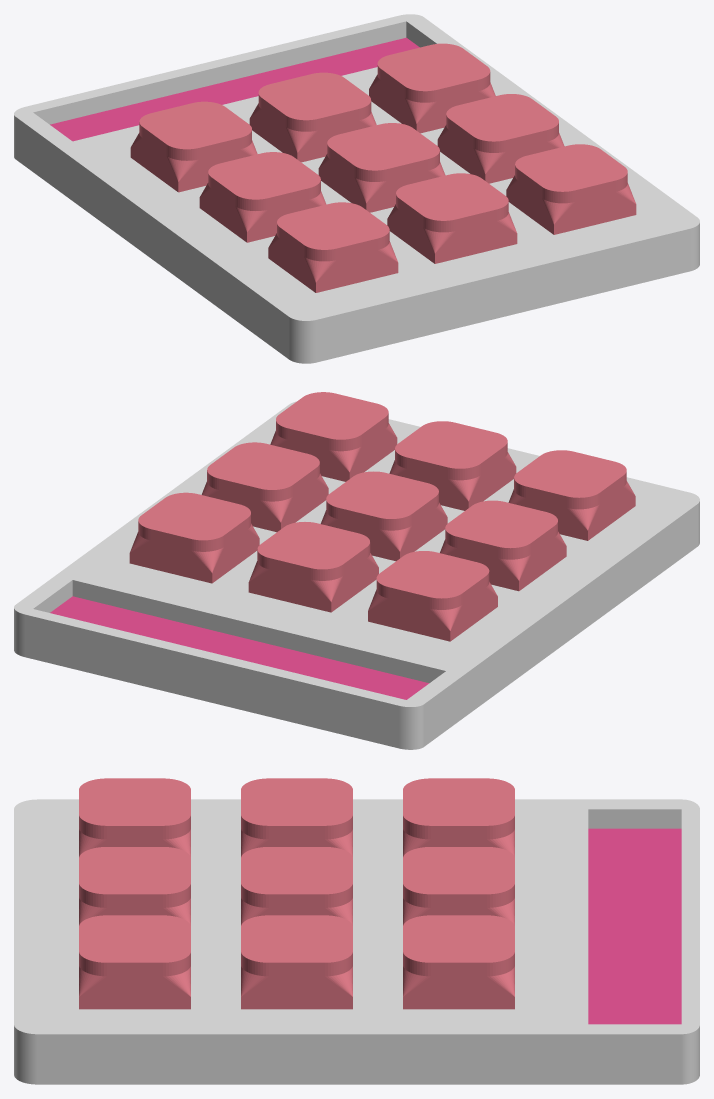
The model's file is PinPad.dae.
The picture shows the model from 3 angles, top to bottom: view 1: azimuth 30°, elevation 25°; view 2: azimuth 150°, elevation 25°; view 3: azimuth 270°, elevation 25°; orthographic projection. The views are drawn at different scales.
Visible parts, largest first — view 1: Cube, Cube.007, Cube.008, Cube.009, Cube.001, Cube.004, Cube.002, Cube.003, Cube.005, Cube.006, Plane; view 2: Cube, Cube.002, Cube.001, Cube.003, Plane, Cube.007, Cube.004, Cube.005, Cube.006, Cube.008, Cube.009; view 3: Cube, Plane, Cube.009, Cube.006, Cube.003, Cube.008, Cube.007, Cube.005, Cube.004, Cube.002, Cube.001.
Part boxes in pixels (x1,y1,x2,y2): Cube: (14,14,699,363); Cube.007: (268,202,398,292); Cube.008: (387,173,517,263); Cube.009: (506,144,636,234); Cube.001: (130,101,257,192); Cube.004: (199,152,326,242); Cube.002: (249,72,376,162); Cube.003: (369,43,495,133); Cube.005: (318,123,445,212); Cube.006: (437,94,564,183); Plane: (50,37,419,141); Cube: (14,401,699,749); Cube.002: (248,522,378,612); Cube.001: (368,551,497,641); Cube.003: (129,492,259,583); Plane: (50,596,428,699); Cube.007: (508,450,635,540); Cube.004: (440,500,566,591); Cube.005: (320,471,447,561); Cube.006: (201,442,328,532); Cube.008: (389,421,516,510); Cube.009: (270,392,397,481); Cube: (14,799,699,1084); Plane: (588,828,681,1024); Cube.009: (79,915,190,1009); Cube.006: (241,915,352,1009); Cube.003: (403,915,514,1009); Cube.008: (79,847,190,925); Cube.007: (79,778,190,856); Cube.005: (241,847,352,925); Cube.004: (241,778,352,856); Cube.002: (403,847,514,925); Cube.001: (403,778,514,856).
Bounding box in the file's own units: 6 × 7.41 × 1.15.
